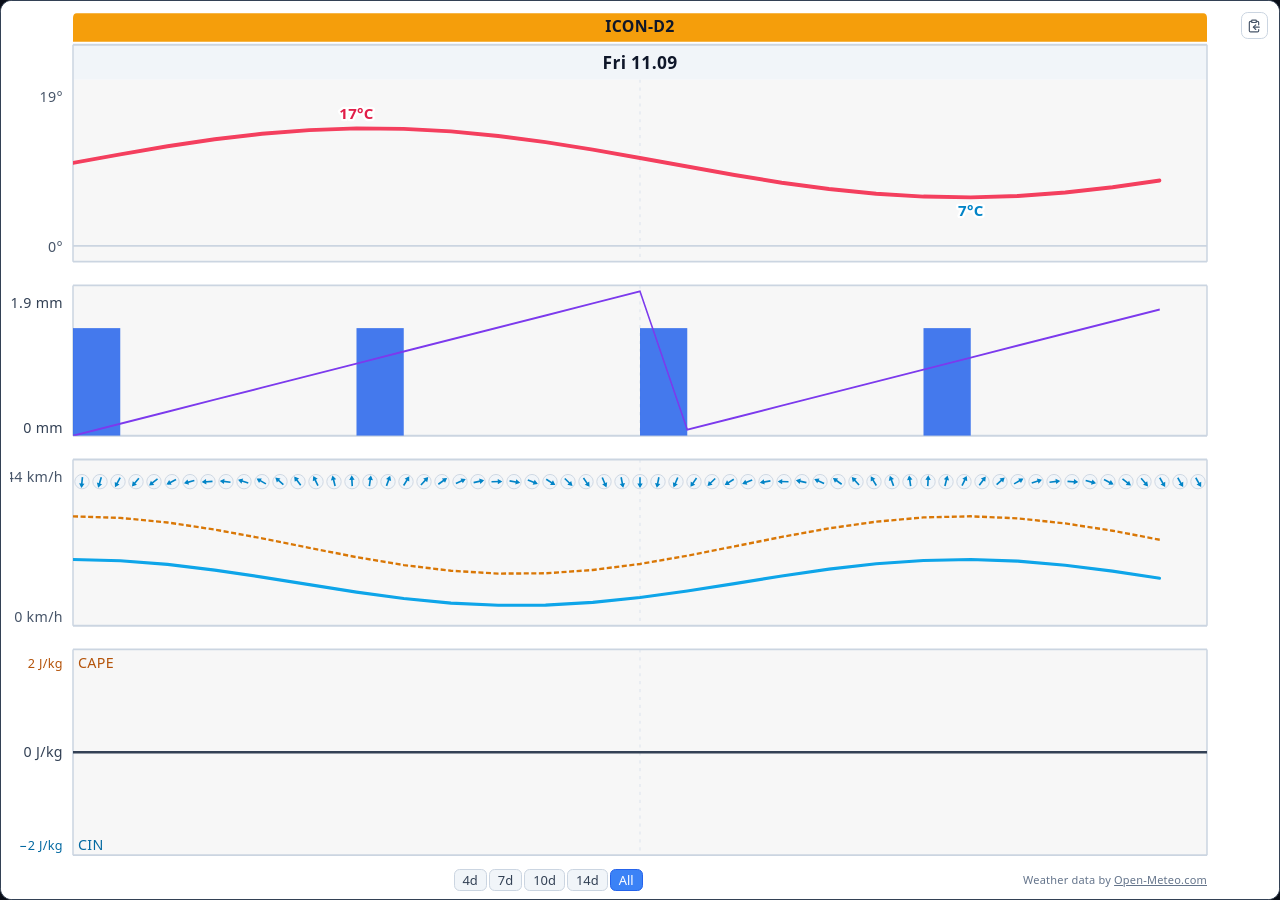
Test case: MeteogramChart Redesign Component › Full-Screen Meteogram Mode › renders two stable full-screen detail rows without cloud metadata or cloud-level fields
Double-click the element that starts with "ICON-D2" at (640, 450), box [0, 0, 1279, 899]
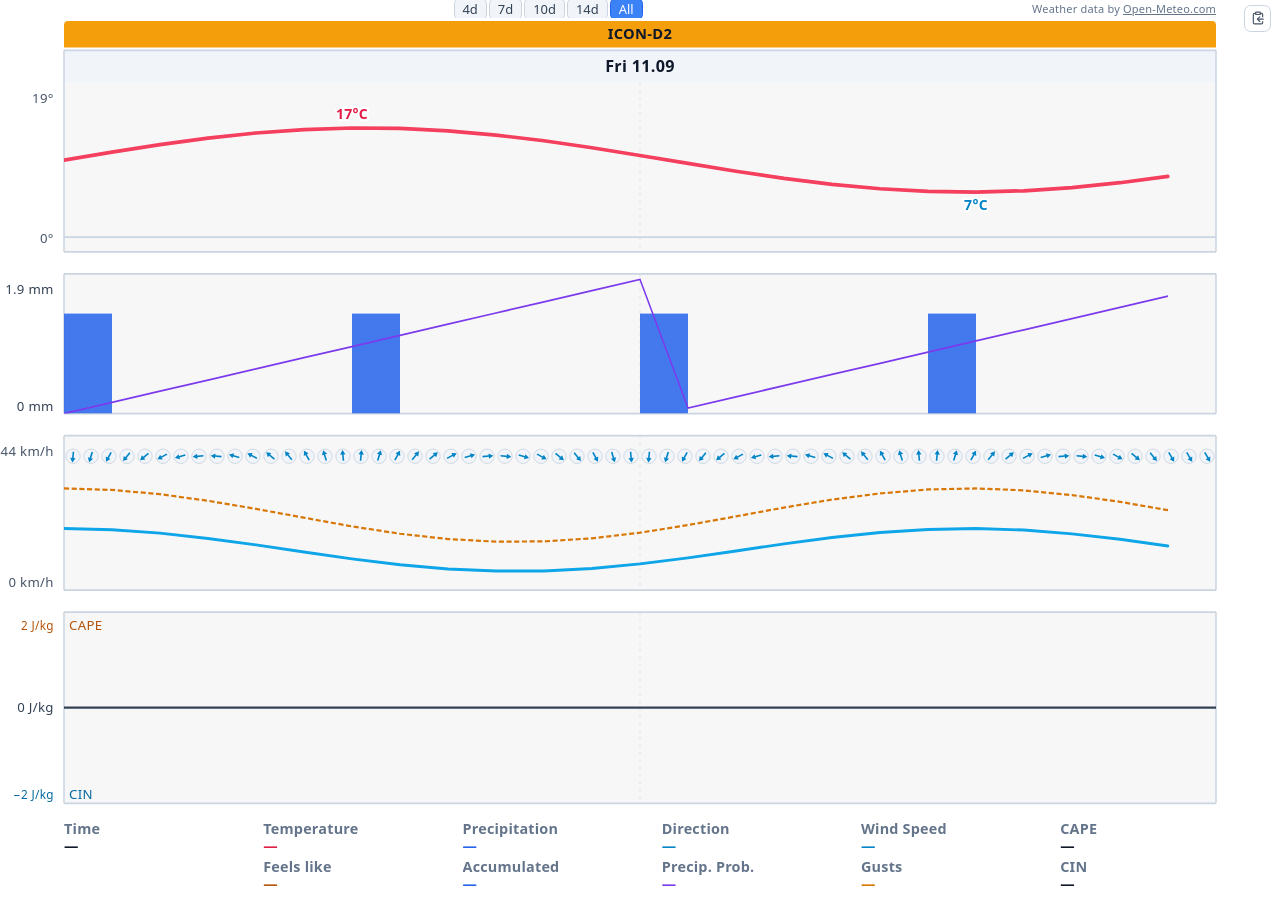
Check: the element with test id "fullscreen-detail-row-2" shows "Feels like", box [263, 857, 332, 876]
Check: the element with test id "fullscreen-detail-row-2" shows "Precip. Prob.", box [662, 857, 754, 876]
Check: the text with class "attr-name" reads "Accumulated", box [462, 857, 559, 876]
